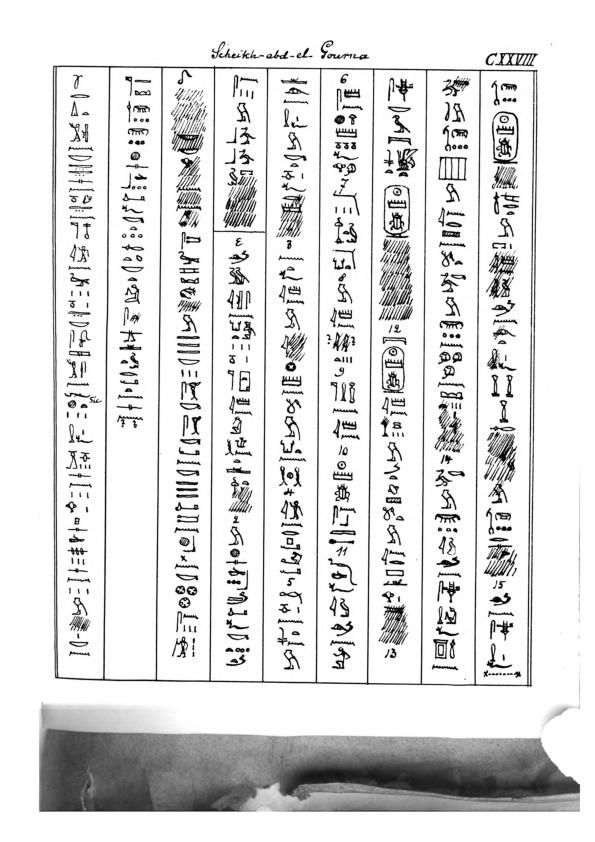circle: (487, 110, 523, 166), (381, 183, 413, 240), (379, 345, 408, 394)
